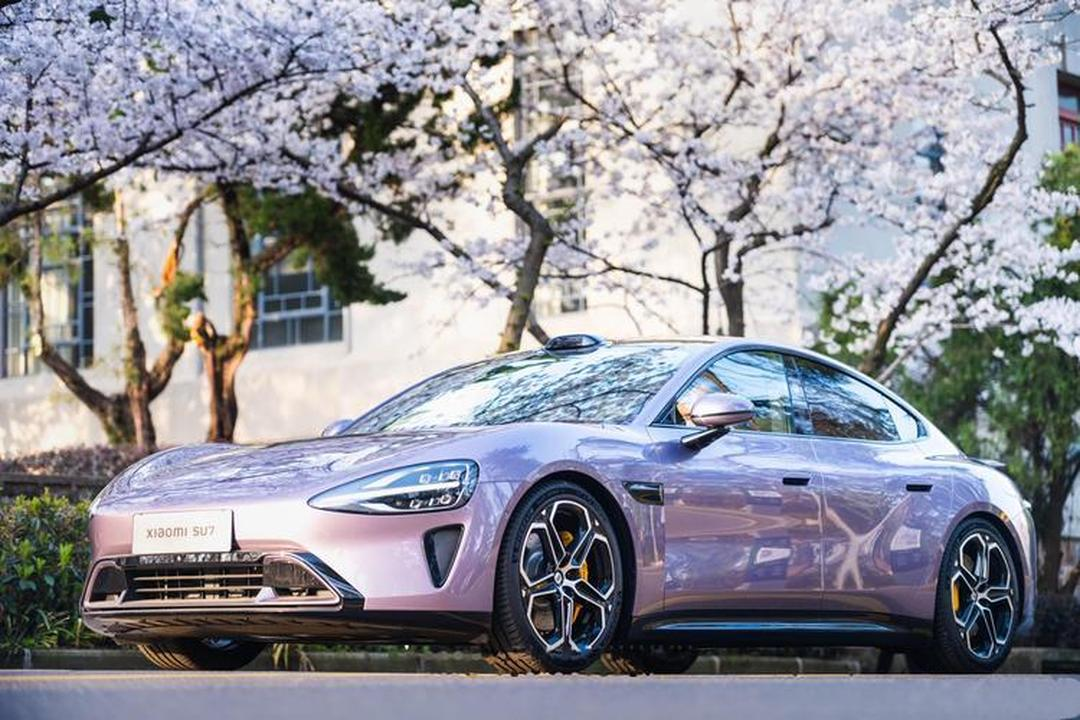su7: (91, 333, 1043, 678)
